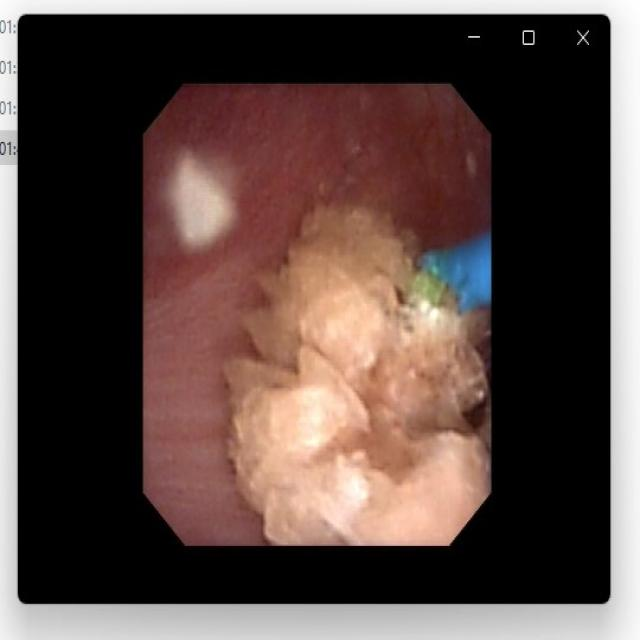fiber: (427, 240, 486, 306)
stone: (230, 208, 485, 540), (172, 158, 232, 250)
